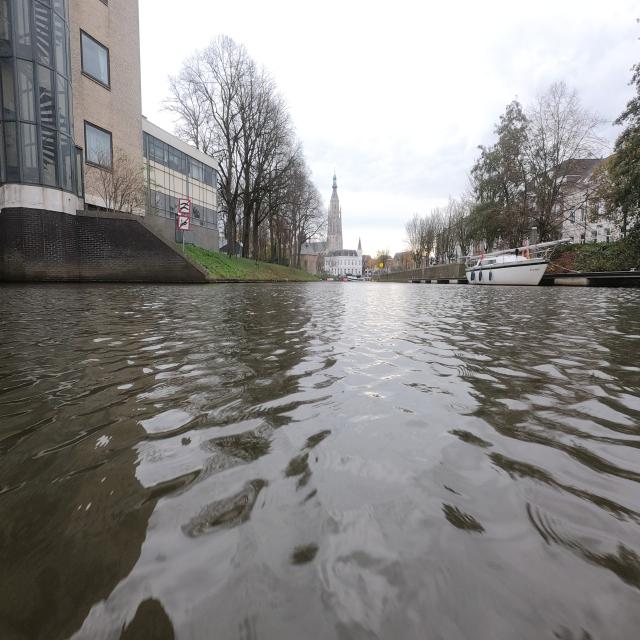boat: (474, 252, 542, 286)
dock: (539, 271, 640, 287)
grass: (185, 246, 317, 281)
sky: (148, 6, 632, 252)
tree: (165, 35, 324, 260), (524, 81, 605, 242), (470, 99, 528, 247), (594, 62, 640, 237)
wall: (0, 204, 210, 286), (374, 262, 466, 281)
water: (8, 290, 638, 632)
